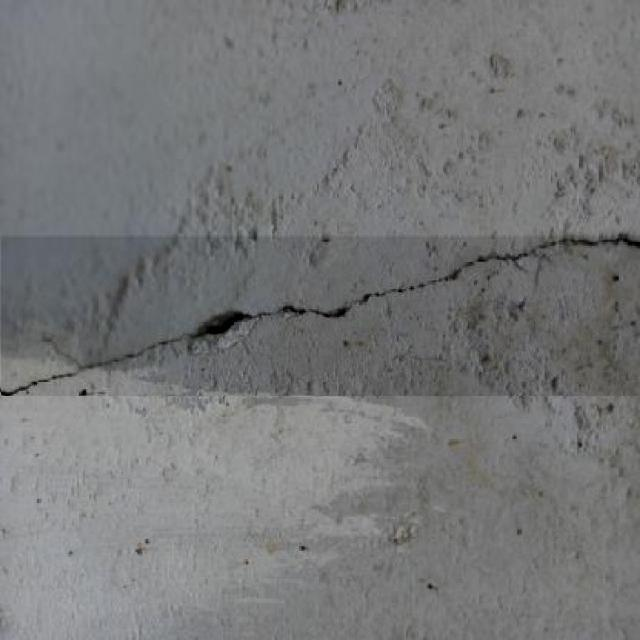diagonal crack: (1, 237, 567, 396), (570, 237, 640, 245)
